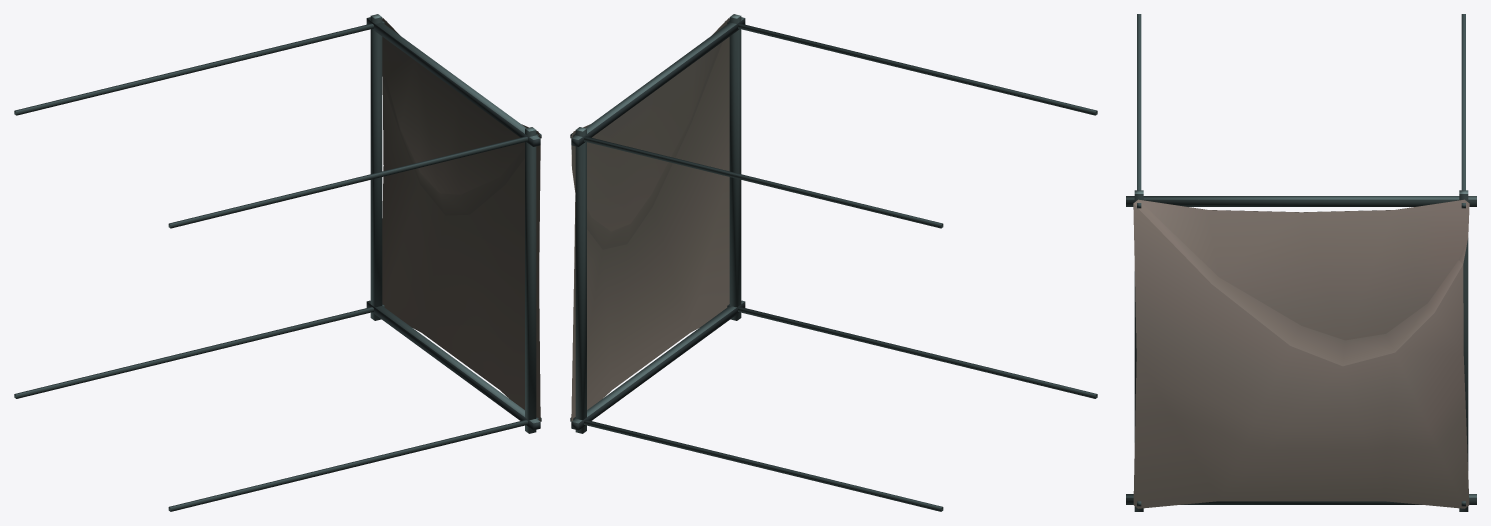
File: Safety_Net_1A.fbx
The picture shows the model from 3 angles, left to right: view 1: azimuth 30°, elevation 25°; view 2: azimuth 150°, elevation 25°; view 3: azimuth 270°, elevation 25°; orthographic projection. The views are drawn at different scales.
Parts seen in each view (by area): view 1: Safety_Net_1A; view 2: Safety_Net_1A; view 3: Safety_Net_1A.
Boxes of the visible parts, x1=… form: Safety_Net_1A: x1=14, y1=14, x2=541, y2=511; Safety_Net_1A: x1=570, y1=14, x2=1097, y2=511; Safety_Net_1A: x1=1126, y1=14, x2=1476, y2=511.
Bounding box in the file's own units: 516 × 400 × 400.
